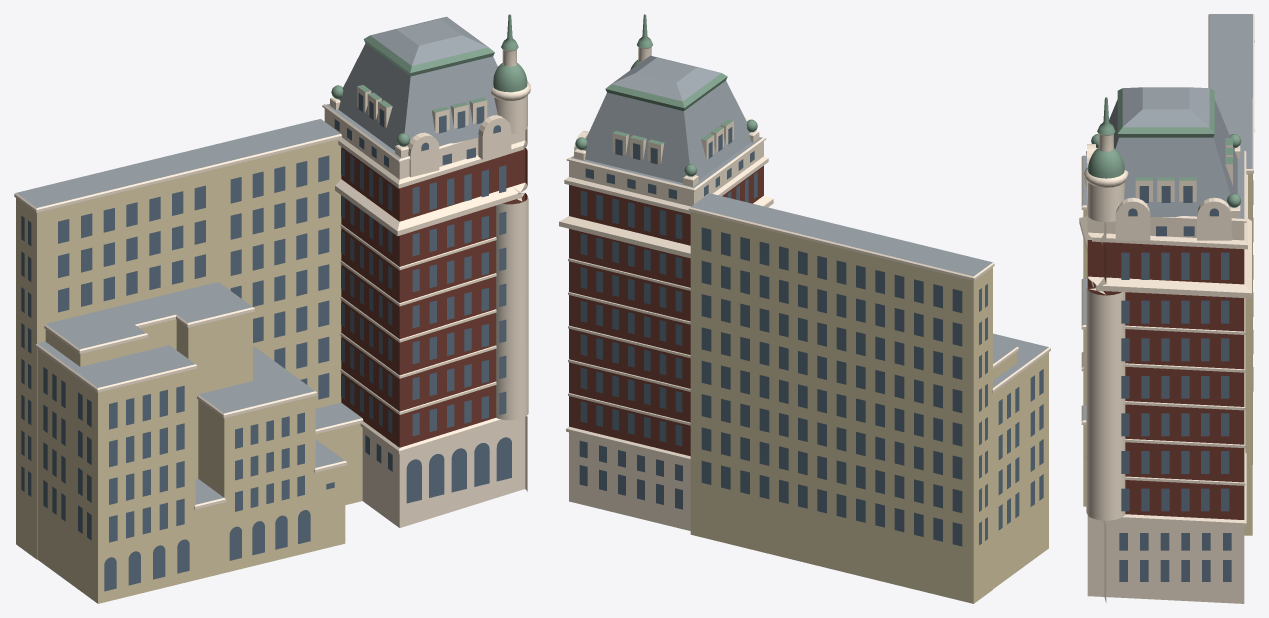
File: dal-adolphus-hotel.glb
The picture shows the model from 3 angles, left to right: view 1: azimuth 30°, elevation 25°; view 2: azimuth 150°, elevation 25°; view 3: azimuth 270°, elevation 25°; orthographic projection. The views are drawn at different scales.
Visible parts, largest first — view 1: The Adolphus; view 2: The Adolphus; view 3: The Adolphus.
Part boxes in pixels (x1,y1,x2,y2): The Adolphus: (14,14,530,603); The Adolphus: (559,14,1050,603); The Adolphus: (1079,14,1254,603).
Size of the model in its own units: 93.11 by 95.3 by 30.31.
